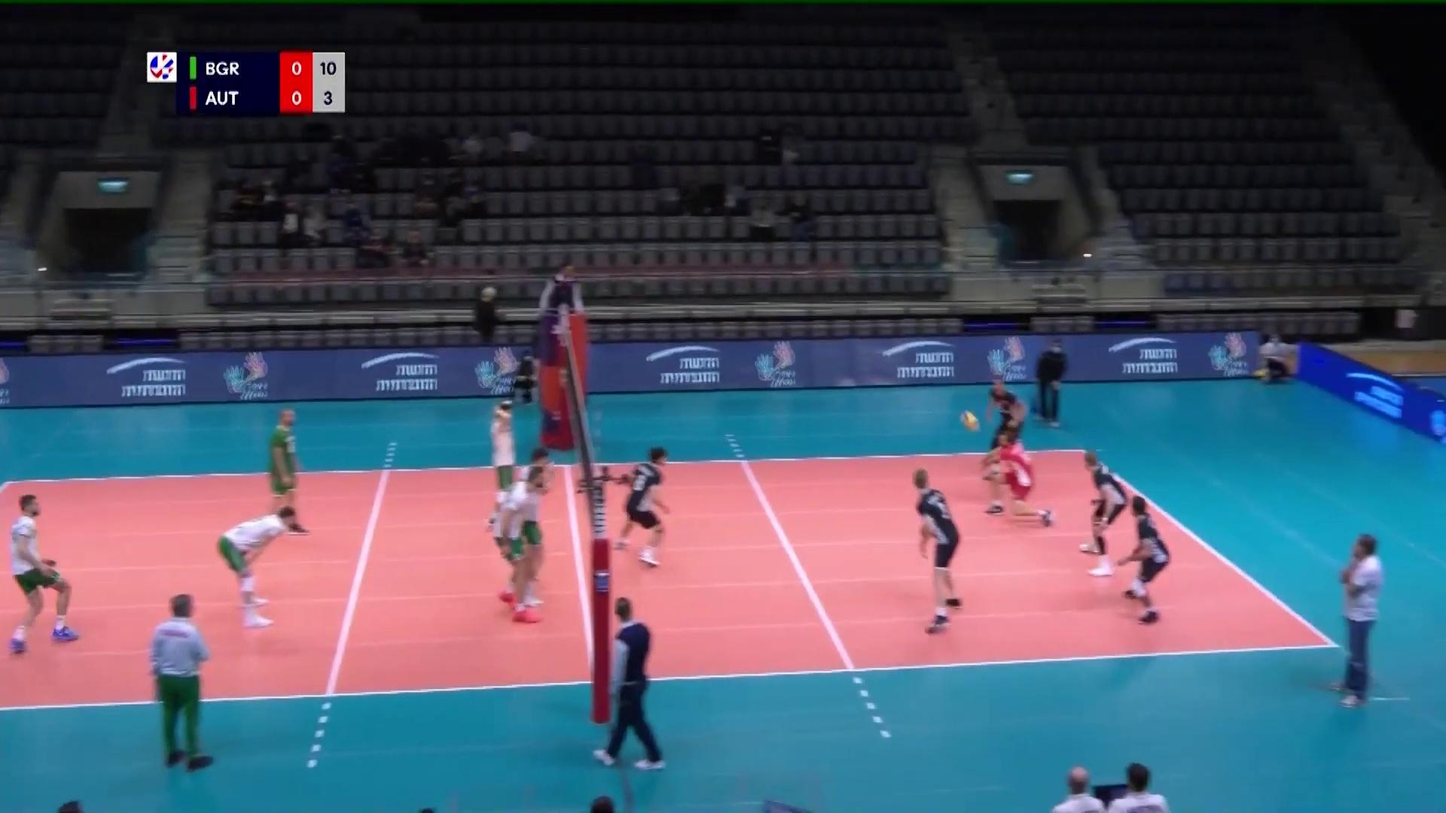ball: (960, 411, 983, 433)
